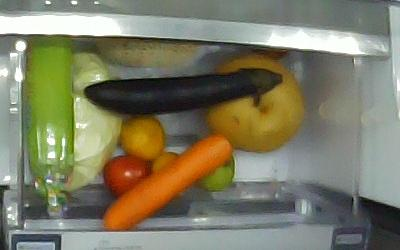cabbage: (70, 43, 122, 194)
carrot: (103, 134, 232, 231)
eggplant: (83, 67, 283, 116)
melon: (96, 39, 203, 67)
pear: (206, 54, 303, 151)
prune: (103, 154, 152, 199)
tangerine: (120, 114, 165, 162), (151, 152, 187, 198)
tomato: (192, 145, 237, 195)
zucchini: (26, 36, 73, 217)
